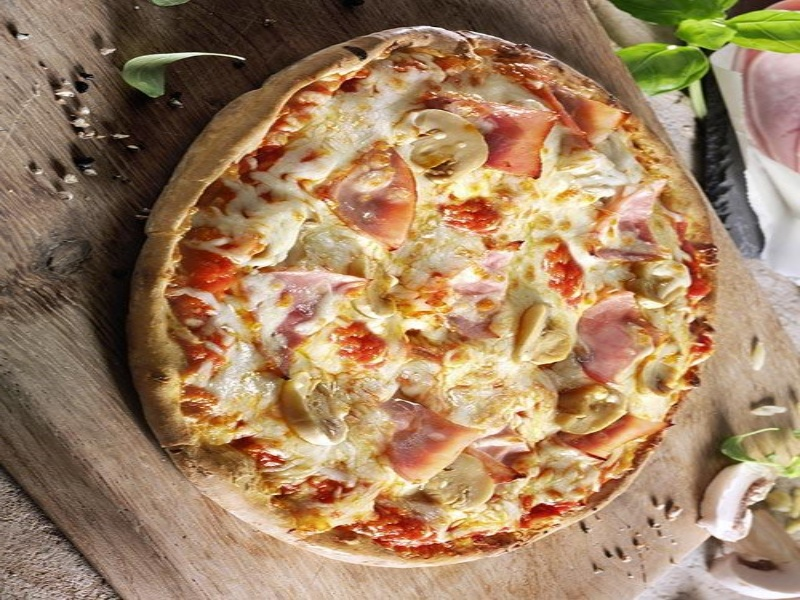champignon: (274, 370, 355, 456), (407, 104, 492, 178), (418, 452, 498, 513)
